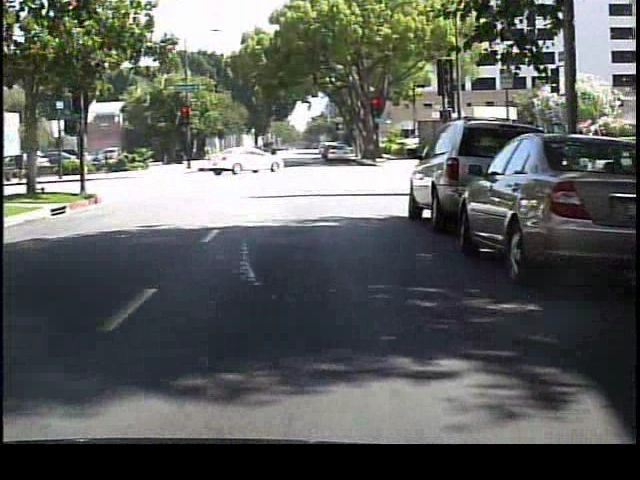person: (269, 140, 284, 171)
